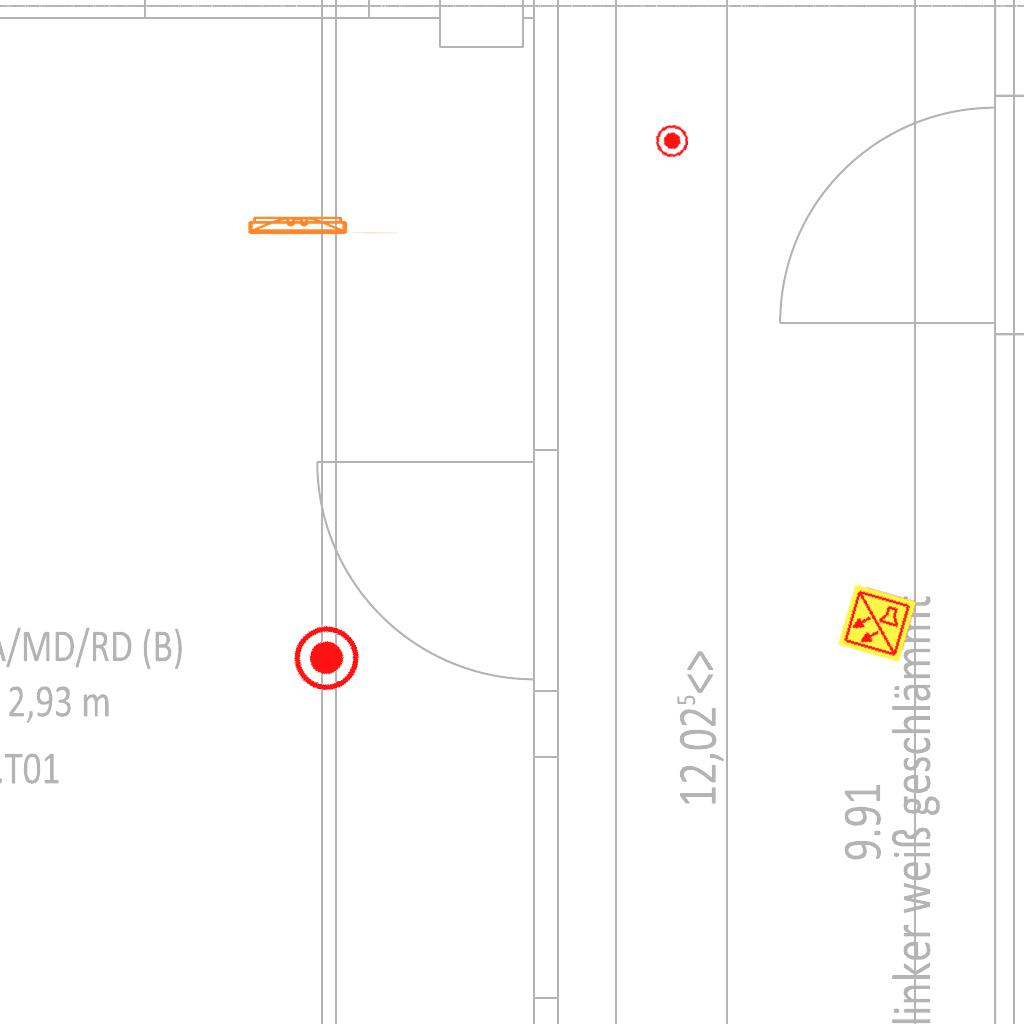OKW_Multisensormelder_(Kombination_optischer_Rauch-Kahlenmonoxid_Waerme-Melder): (836, 582, 918, 664)
Sicherheitsleuchte_Wandeinbau: (243, 212, 402, 237)
Taster: (281, 614, 369, 702), (652, 121, 691, 160)
